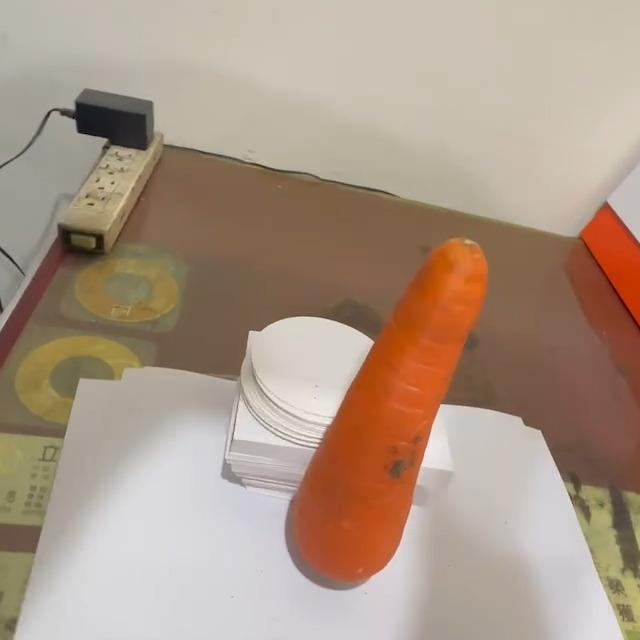carrot: (285, 235, 495, 585)
